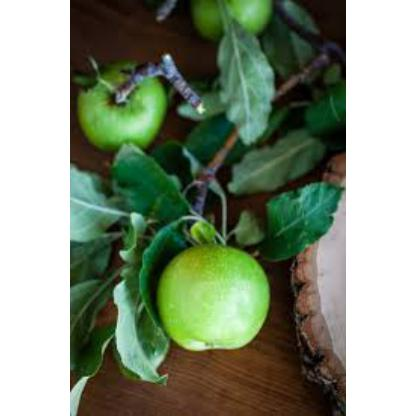apple: (158, 240, 268, 348), (75, 63, 170, 141), (195, 6, 282, 34)
